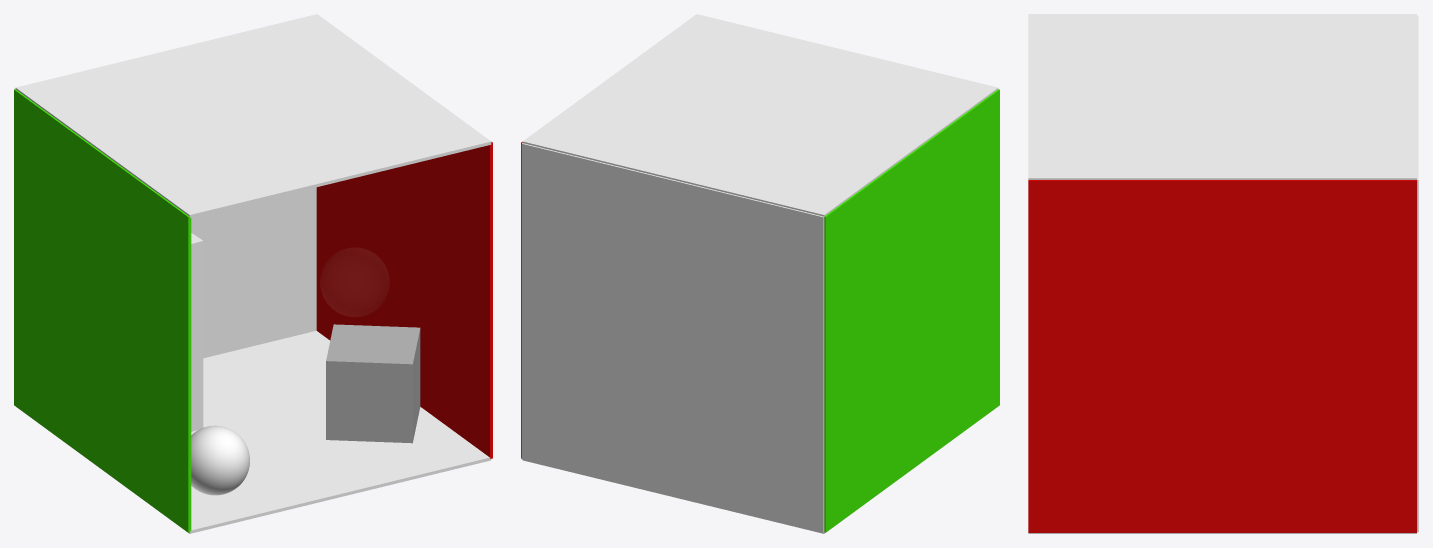
File: cornellBox.glb
3 renders of one model, left to right at view 1: azimuth 30°, elevation 25°; view 2: azimuth 150°, elevation 25°; view 3: azimuth 270°, elevation 25°, orthographic. The views are drawn at different scales.
Visible parts, largest first — view 1: cube_instance_5, cube_instance_3, cube_instance_6, cube_instance_2, cube_instance, cube_instance_14, sphere_instance_22, cube_instance_16; view 2: cube_instance, cube_instance_5, cube_instance_3; view 3: cube_instance_6, cube_instance_3, cube_instance.
Part boxes in pixels (bbox=[...]): cube_instance_5: bbox=[14, 89, 191, 532]; cube_instance_3: bbox=[15, 14, 491, 217]; cube_instance_6: bbox=[316, 142, 492, 458]; cube_instance_2: bbox=[21, 331, 491, 533]; cube_instance: bbox=[15, 88, 316, 358]; cube_instance_14: bbox=[326, 324, 420, 443]; sphere_instance_22: bbox=[191, 425, 249, 495]; cube_instance_16: bbox=[191, 233, 203, 431]; cube_instance: bbox=[521, 143, 824, 532]; cube_instance_5: bbox=[824, 89, 999, 532]; cube_instance_3: bbox=[522, 14, 998, 216]; cube_instance_6: bbox=[1028, 180, 1416, 532]; cube_instance_3: bbox=[1028, 14, 1416, 179]; cube_instance: bbox=[1417, 15, 1418, 532].
Bounding box in the file's own units: 10.1 × 10.1 × 10.05.
